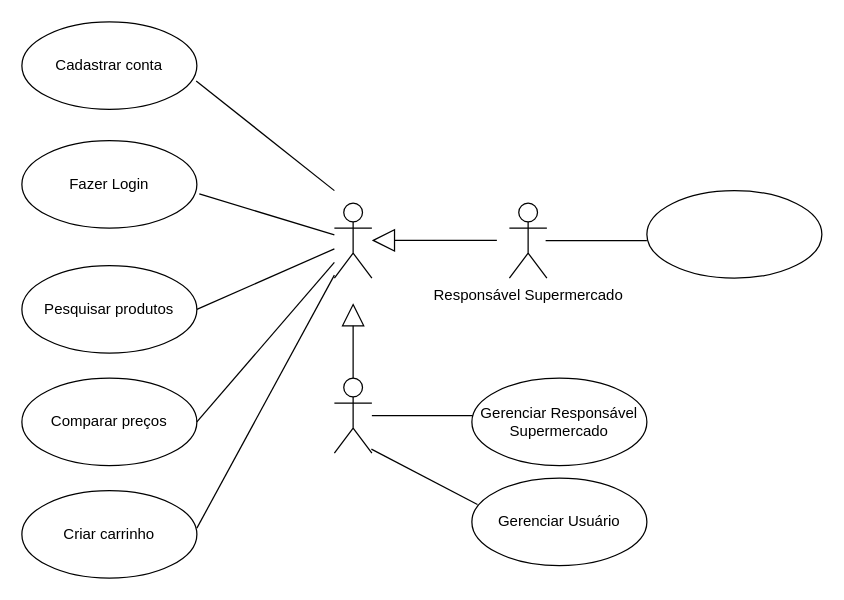
Image size: 844x600. Some labels were removed from this diagram. Each missing label, with the centre of its shape:
Administrador: [352,415]
Atualizar preço do produto: [734,233]
Usuário: [352,240]
